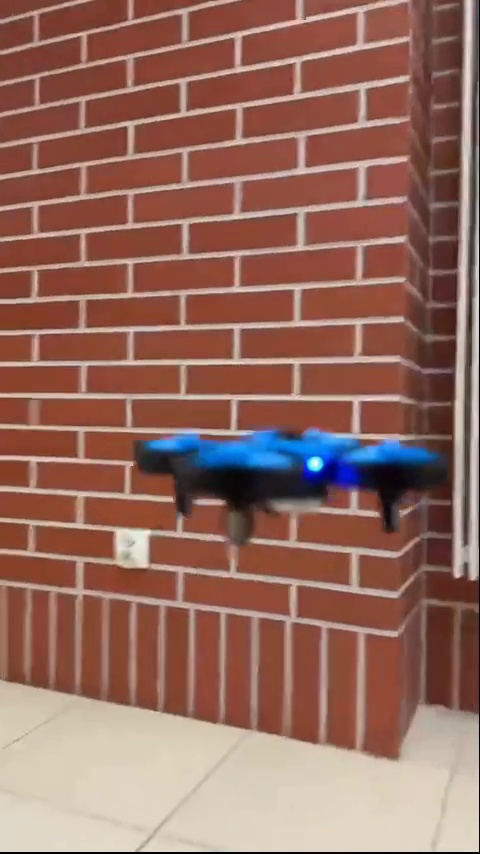drone: (140, 423, 450, 545)
